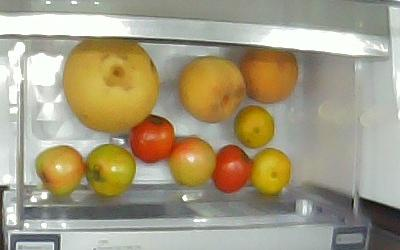peach: (179, 56, 246, 123), (239, 48, 298, 104)
pear: (63, 39, 159, 134)
tangerine: (250, 148, 291, 196), (234, 105, 274, 147)
tomato: (84, 144, 136, 199), (33, 145, 85, 195), (168, 137, 216, 188), (130, 115, 176, 164), (210, 145, 250, 195)
